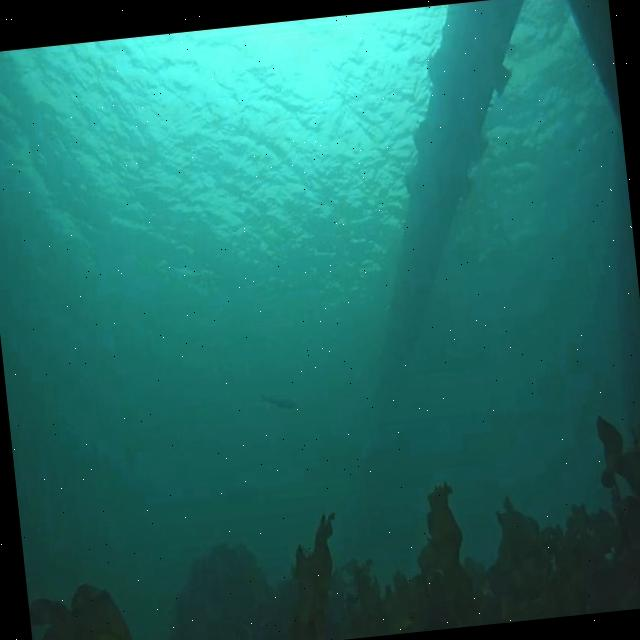fish: (260, 391, 298, 414)
